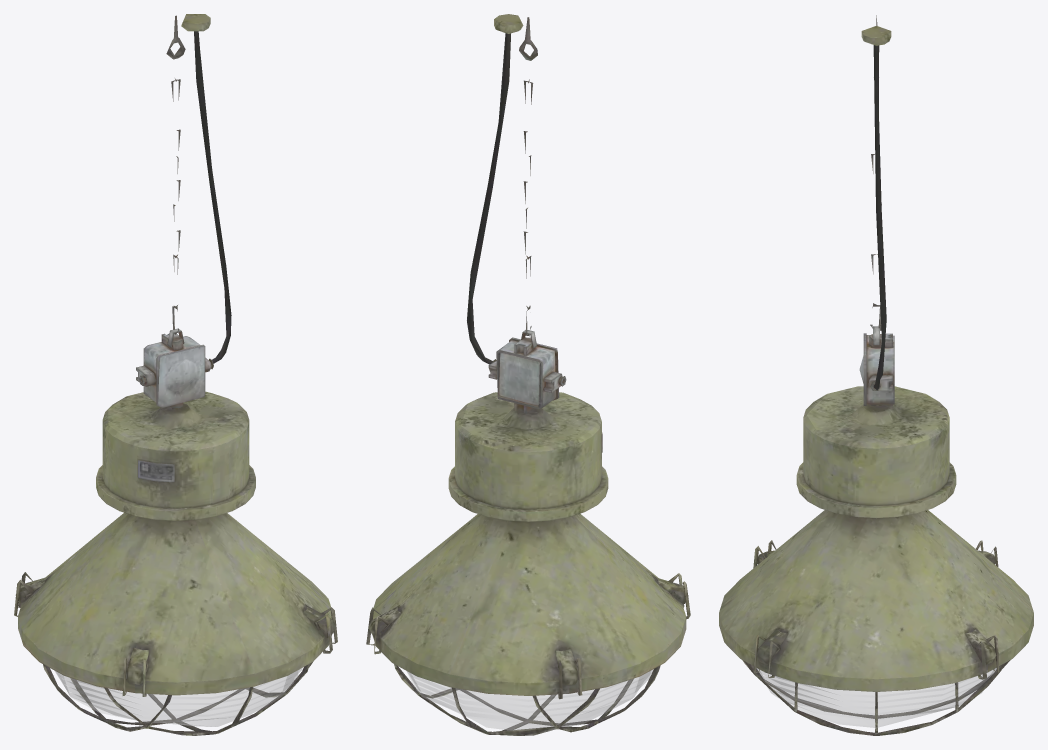
Rendered from hanging_industrial_lamp.glb.
3 renders of one model, left to right at view 1: azimuth 30°, elevation 25°; view 2: azimuth 150°, elevation 25°; view 3: azimuth 270°, elevation 25°, orthographic.
Parts seen in each view (by area): view 1: hanging_industrial_lamp; view 2: hanging_industrial_lamp; view 3: hanging_industrial_lamp.
Part boxes in pixels (left/top/right/bottom): hanging_industrial_lamp: left=14, top=14, right=337, bottom=735; hanging_industrial_lamp: left=366, top=14, right=690, bottom=735; hanging_industrial_lamp: left=719, top=15, right=1033, bottom=735.
Size of the model in its own units: 0.5497 by 1.36 by 0.5497.
2 materials, 1 textured.
